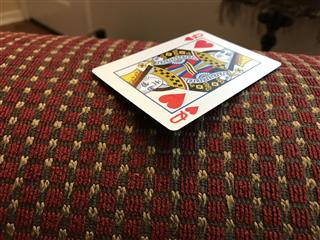QueenOfHearts: (91, 29, 281, 131)
